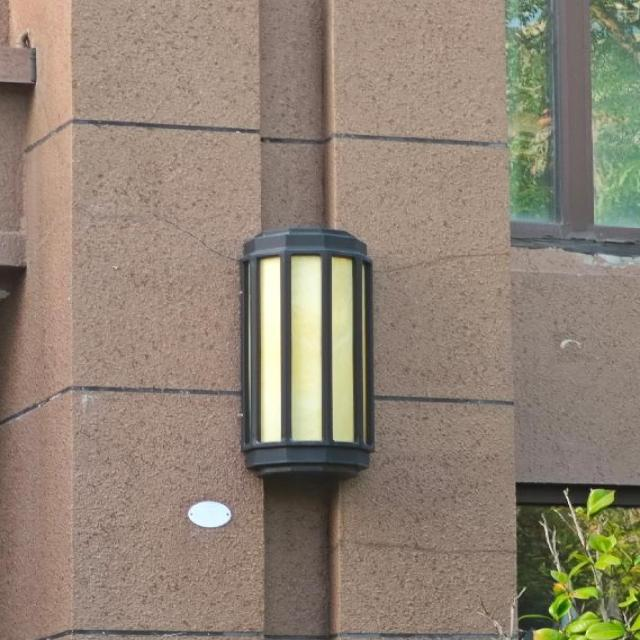crack: (127, 198, 243, 272), (321, 533, 517, 565), (371, 247, 515, 279)
